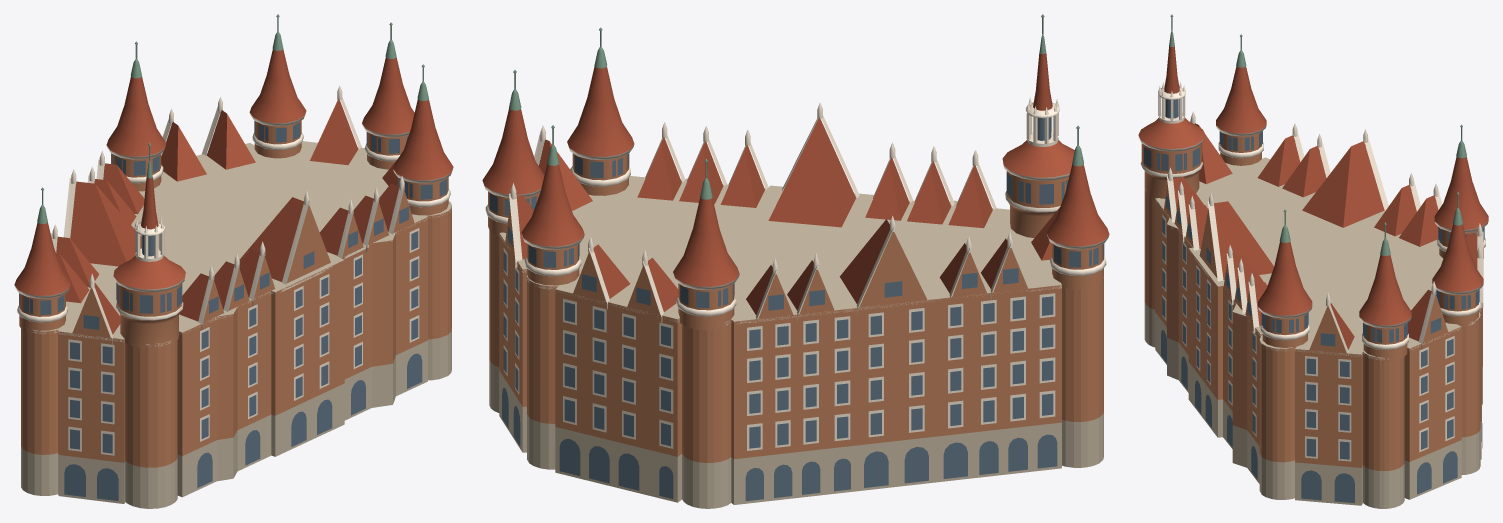
Rendered from barcelona-casa-de-les-punxes.glb.
3 renders of one model, left to right at view 1: azimuth 30°, elevation 25°; view 2: azimuth 150°, elevation 25°; view 3: azimuth 270°, elevation 25°, orthographic. The views are drawn at different scales.
Parts seen in each view (by area): view 1: Casa de les Punxes; view 2: Casa de les Punxes; view 3: Casa de les Punxes.
Boxes of the visible parts, x1,y1,x2,y2 form: Casa de les Punxes: (14,14,453,508); Casa de les Punxes: (482,14,1109,508); Casa de les Punxes: (1138,14,1488,508).
Size of the model in its own units: 60.62 by 43 by 41.96.
